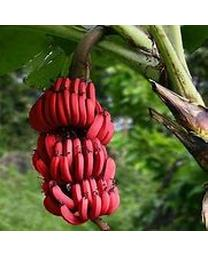banana: (28, 77, 122, 226)
